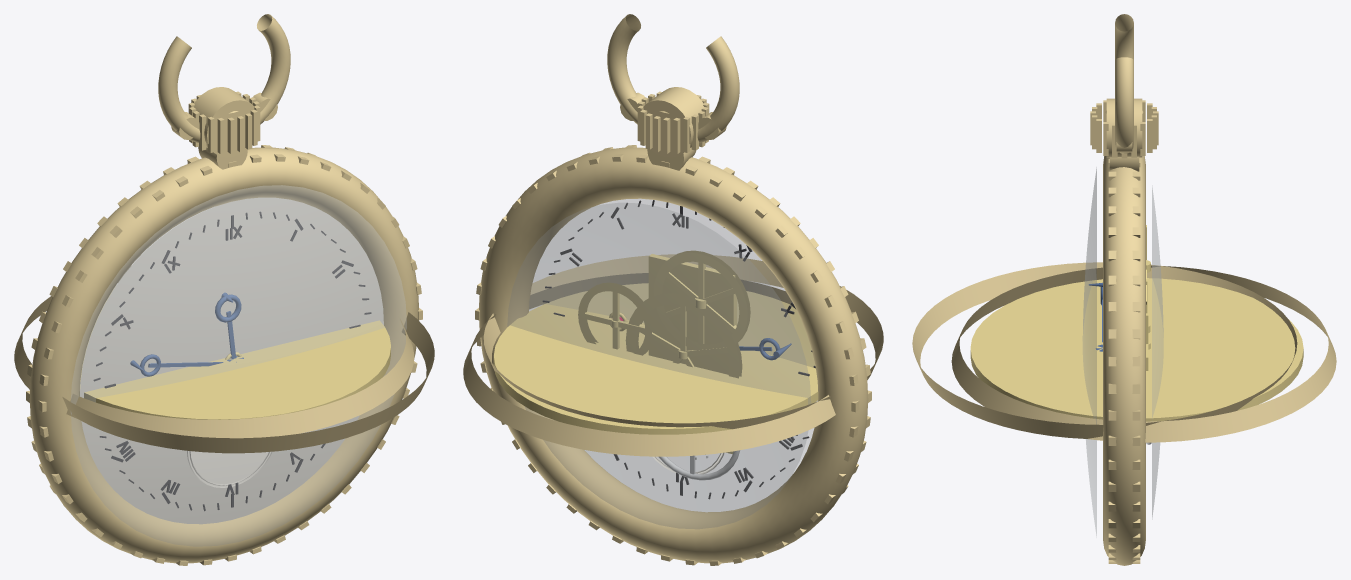
Rendered from antique_luxury_pocket_watch_1147.glb.
3 renders of one model, left to right at view 1: azimuth 30°, elevation 25°; view 2: azimuth 150°, elevation 25°; view 3: azimuth 270°, elevation 25°, orthographic. The views are drawn at different scales.
Parts seen in each view (by area): view 1: Crystal_GlassCover, Casing_AgedBrass, EnamelDial_Face, SkeletonMovement_Gears, WindingStem_Crown_Bow, RomanNumerals_Track, StoppedHands_1147; view 2: Casing_AgedBrass, BackWindow_Glass, SkeletonMovement_Gears, Crystal_GlassCover, WindingStem_Crown_Bow, RomanNumerals_Track, BalanceWheel_Steel; view 3: Casing_AgedBrass, SkeletonMovement_Gears, WindingStem_Crown_Bow, Crystal_GlassCover, BackWindow_Glass.
Part boxes in pixels (x1,y1,x2,y2): Crystal_GlassCover: (71, 185, 406, 546); Casing_AgedBrass: (14, 145, 434, 565); EnamelDial_Face: (80, 197, 383, 524); SkeletonMovement_Gears: (79, 294, 390, 419); WindingStem_Crown_Bow: (158, 14, 290, 169); RomanNumerals_Track: (93, 211, 371, 511); StoppedHands_1147: (130, 292, 243, 376); Casing_AgedBrass: (463, 145, 883, 565); BackWindow_Glass: (507, 203, 810, 528); SkeletonMovement_Gears: (493, 250, 818, 454); Crystal_GlassCover: (529, 199, 817, 511); WindingStem_Crown_Bow: (607, 14, 739, 170); RomanNumerals_Track: (542, 200, 815, 499); BalanceWheel_Steel: (658, 450, 740, 480); Casing_AgedBrass: (912, 156, 1336, 565); SkeletonMovement_Gears: (970, 225, 1303, 421); WindingStem_Crown_Bow: (1090, 14, 1158, 171); Crystal_GlassCover: (1082, 167, 1096, 537); BackWindow_Glass: (1152, 185, 1163, 519).
Bounding box in the file's own units: 0.0544 × 0.0717 × 0.054.
